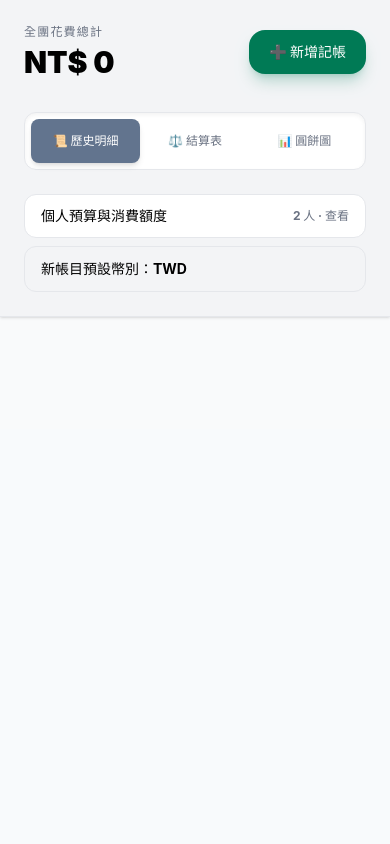
Test: ExpenseSection › 顯示 Settlement Summary
Click the button with test id "expense-settlement-view-button": point(195, 141) [140,119,250,163]
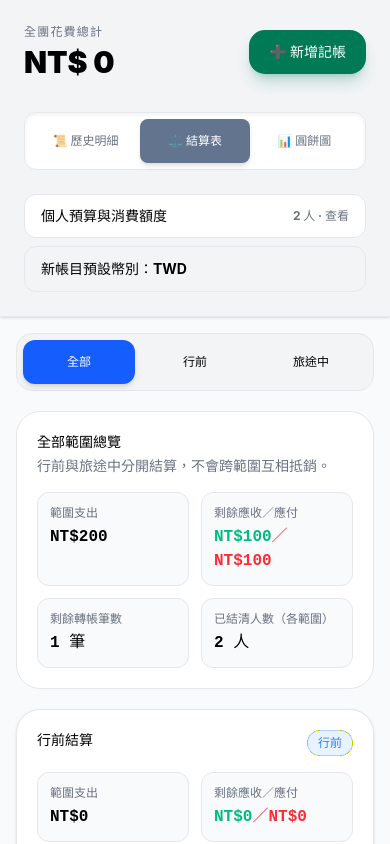
Check: the text "NT$100" is shown, box [214,528,272,546]
